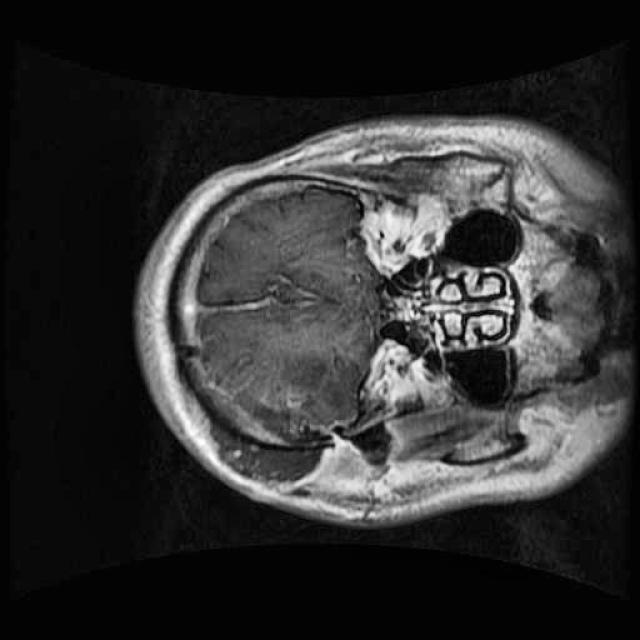Non-Tumor: (229, 344, 364, 461)
